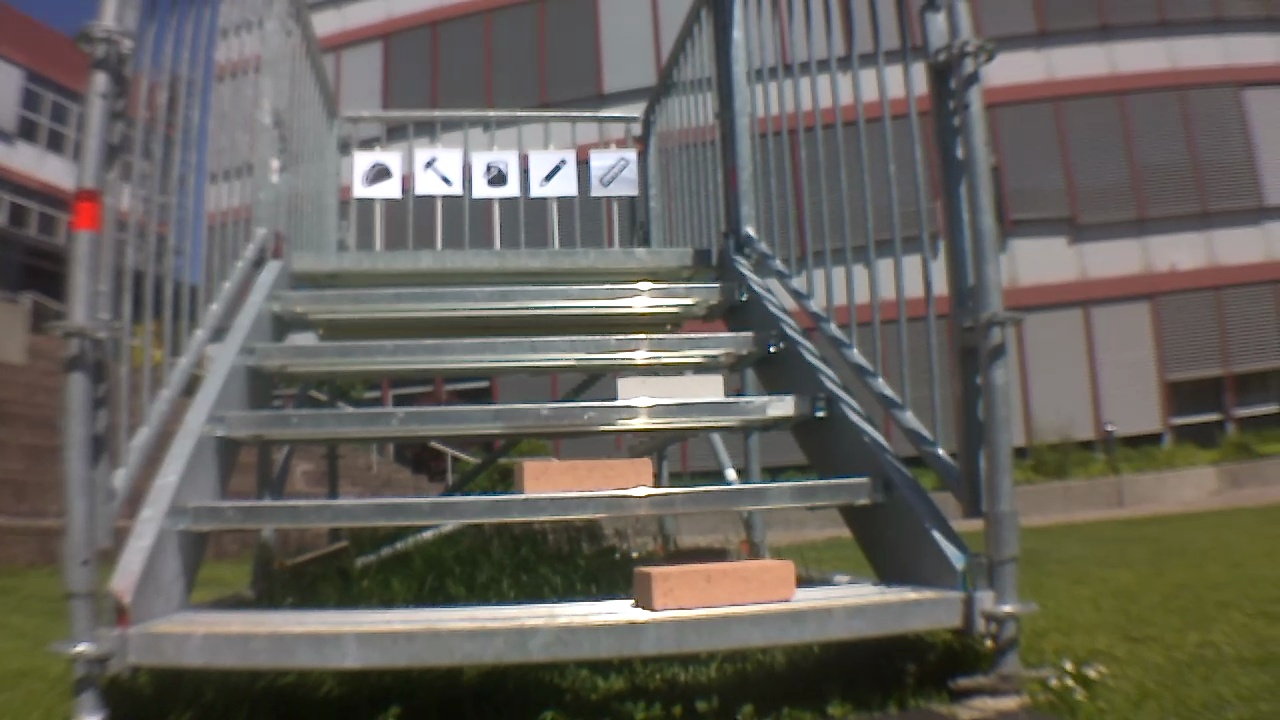brick: (619, 555, 803, 617), (499, 454, 658, 501), (609, 375, 725, 404)
bucket: (481, 160, 514, 187)
edge: (125, 588, 974, 666), (174, 477, 890, 532), (212, 390, 832, 440), (239, 326, 783, 367), (264, 277, 750, 317), (282, 245, 715, 271)
hammer: (416, 152, 454, 192)
pencil: (538, 158, 568, 192)
ruler: (597, 157, 633, 192)
stairs: (74, 0, 998, 712)
steps: (102, 243, 975, 668)
taco: (364, 165, 393, 188)
